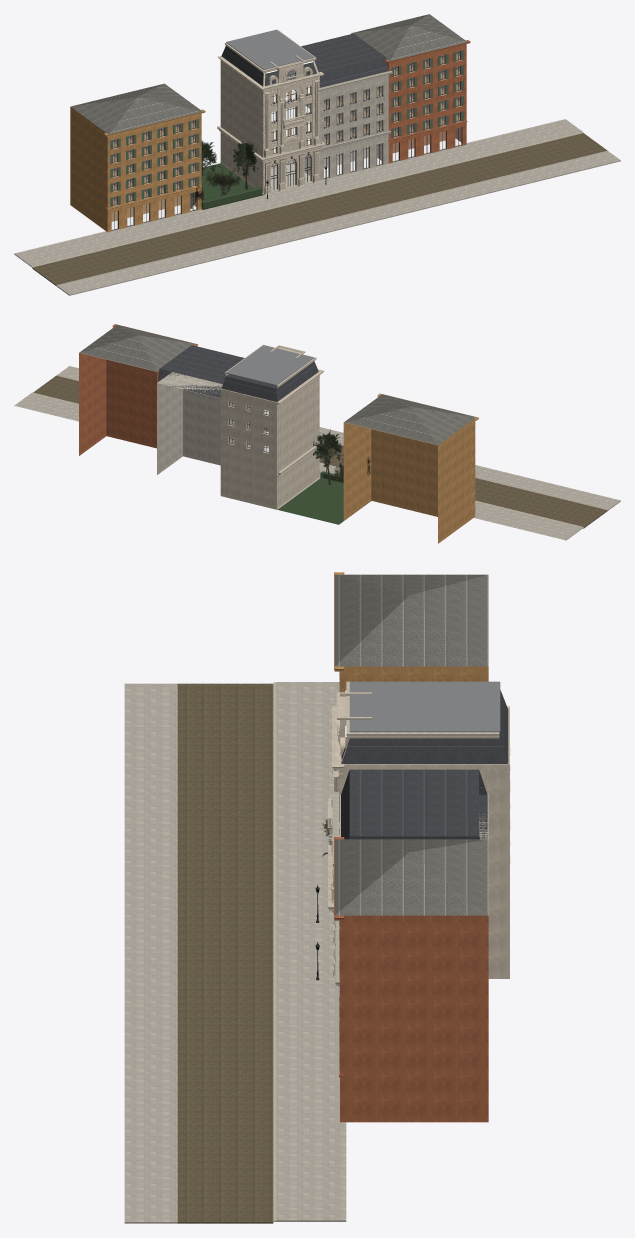
The model's file is palazzo.glb.
3 views of the same model, one above another, from view 1: azimuth 30°, elevation 25°; view 2: azimuth 150°, elevation 25°; view 3: azimuth 270°, elevation 25° (orthographic). The views are drawn at different scales.
Visible parts, largest first — view 1: LM_Contesto, LM_Strada, LM_Palazzo, LM_Interni, Albero11, Albero01, Albero21; view 2: LM_Contesto, LM_Strada, LM_Palazzo, Retro, Albero00; view 3: LM_Strada, LM_Contesto, LM_Palazzo, Retro.
Boxes of the visible parts, x1,y1,x2,y2 form: LM_Contesto: (70, 14, 470, 232); LM_Strada: (14, 119, 620, 295); LM_Palazzo: (217, 29, 325, 195); LM_Interni: (113, 51, 459, 204); Albero11: (205, 170, 240, 195); Albero01: (233, 142, 258, 189); Albero21: (201, 141, 221, 200); LM_Contesto: (79, 324, 478, 543); LM_Strada: (14, 366, 620, 540); LM_Palazzo: (221, 344, 324, 509); Retro: (220, 388, 278, 509); Albero00: (313, 433, 343, 484); LM_Strada: (124, 682, 346, 1223); LM_Contesto: (332, 572, 488, 1122); LM_Palazzo: (327, 681, 509, 977); Retro: (346, 709, 510, 978).
Bounding box in the file's own units: 120 × 25.91 × 36.36.
Materials: 32 (19 with a texture image).
